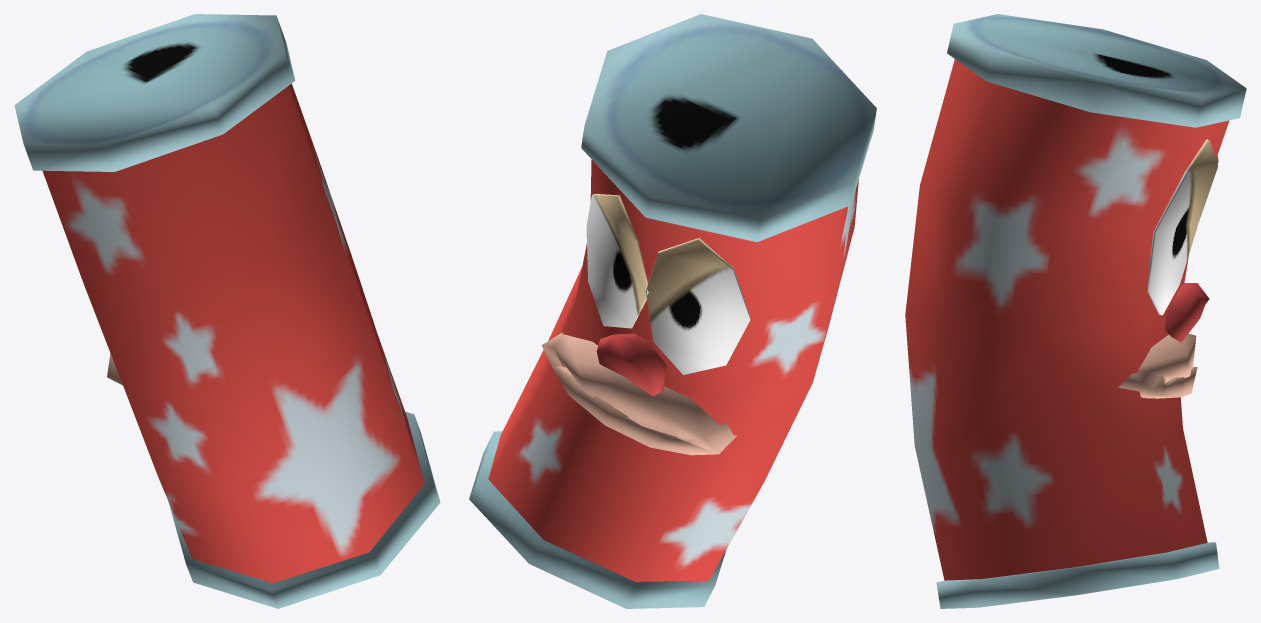
The model's file is mc_icon2.ico.obj.
3 views of the same model, side by side, from view 1: azimuth 30°, elevation 25°; view 2: azimuth 150°, elevation 25°; view 3: azimuth 270°, elevation 25° (orthographic).
Bounding box in the file's own units: 2.84 × 3.87 × 2.16.
1 material, 1 textured.
